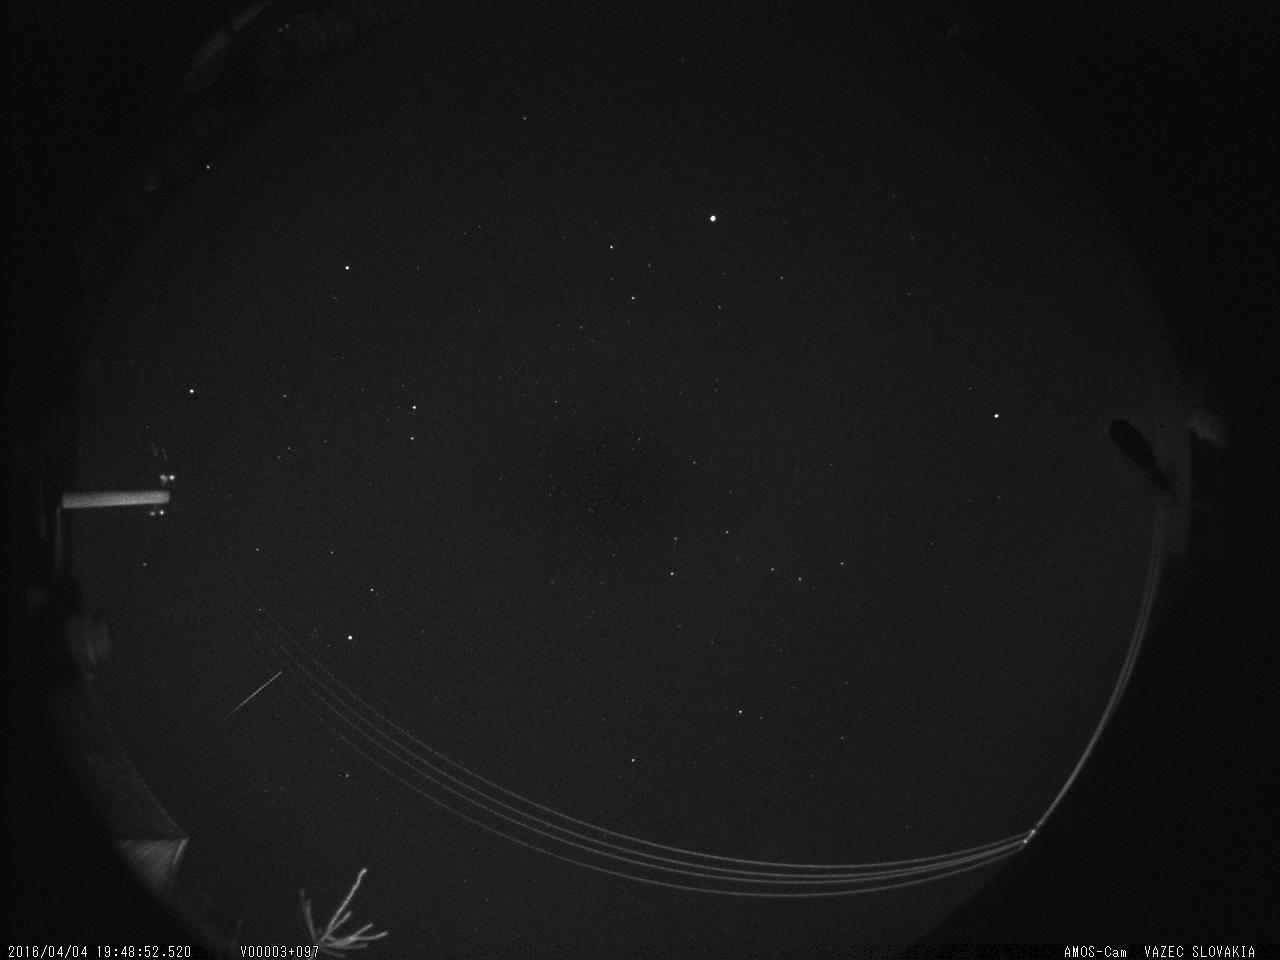meteor: (202, 654, 351, 729)
